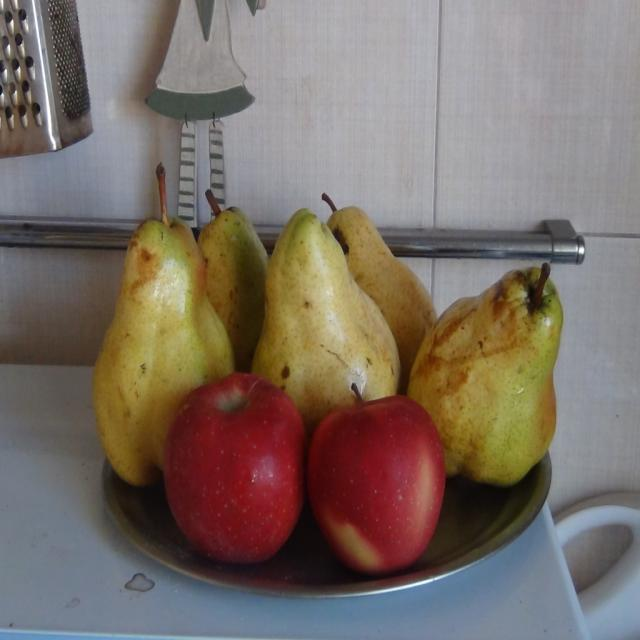apple: (166, 370, 305, 565), (306, 396, 446, 580)
pear: (93, 214, 233, 492), (406, 263, 561, 487), (252, 211, 402, 422), (324, 205, 441, 399), (197, 206, 273, 367)
